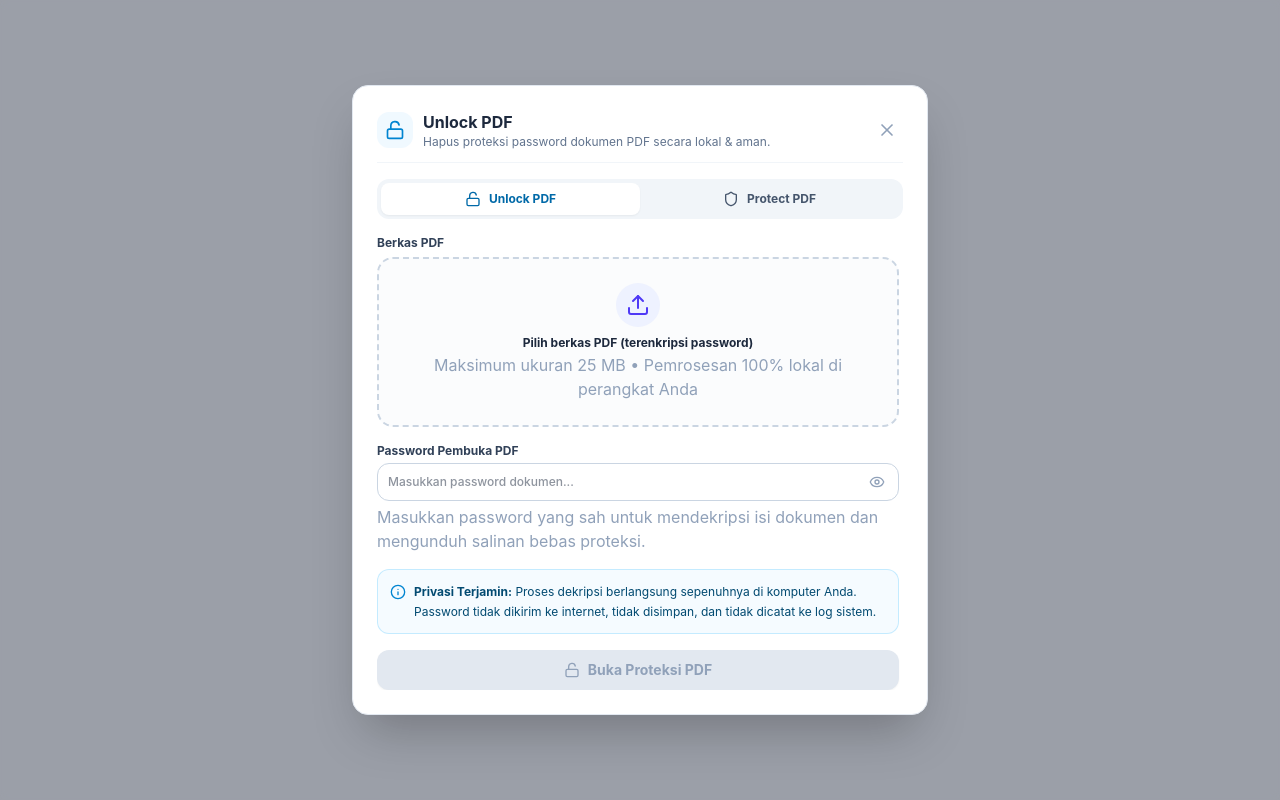
PdfSecurityModal Component › Modal Lifecycle & Tab Navigation › dapat berpindah tab dengan klik tombol tab
The image size is (1280, 800).
Click the tab with test id "tab-protect" at [770, 199], box [640, 183, 899, 215]
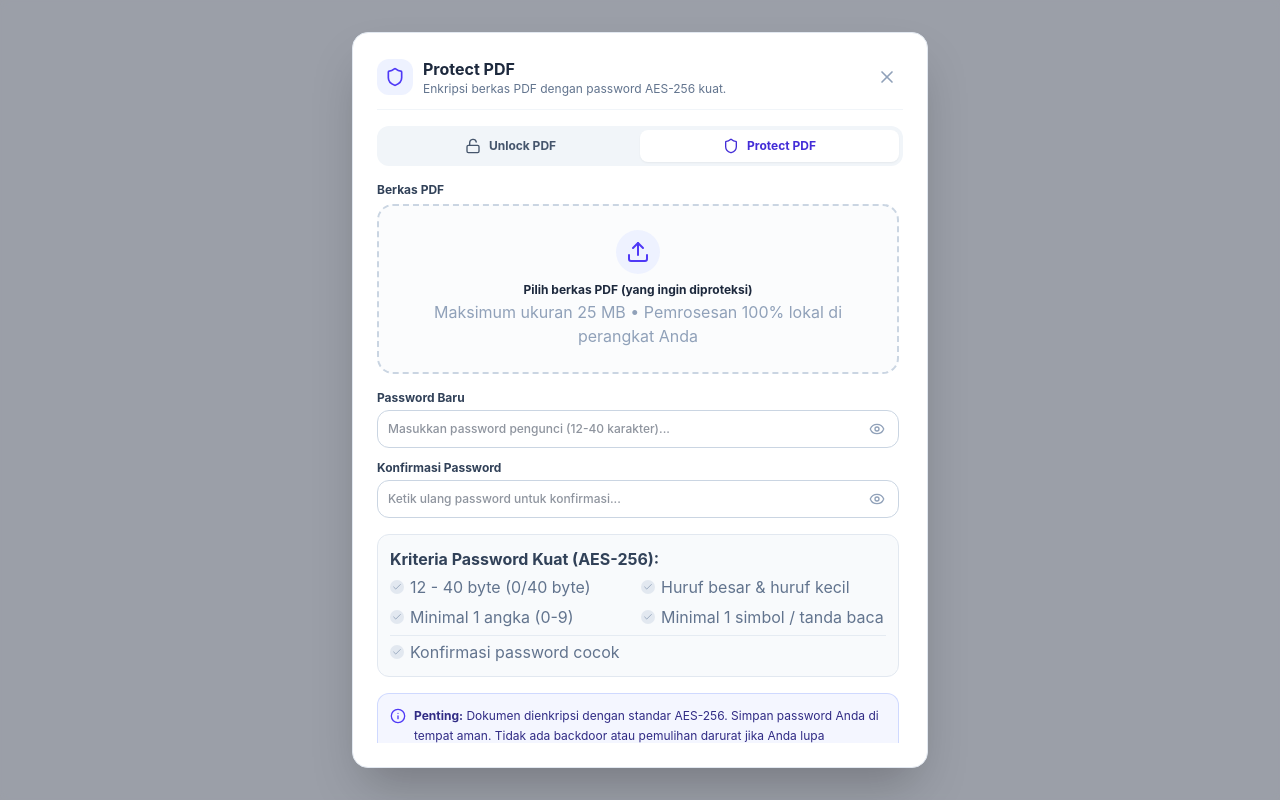
Expected: the form with test id "form-protect" is shown, [377, 390, 899, 743]
Click the tab with test id "tab-unlock" at [510, 146], box [381, 130, 640, 162]
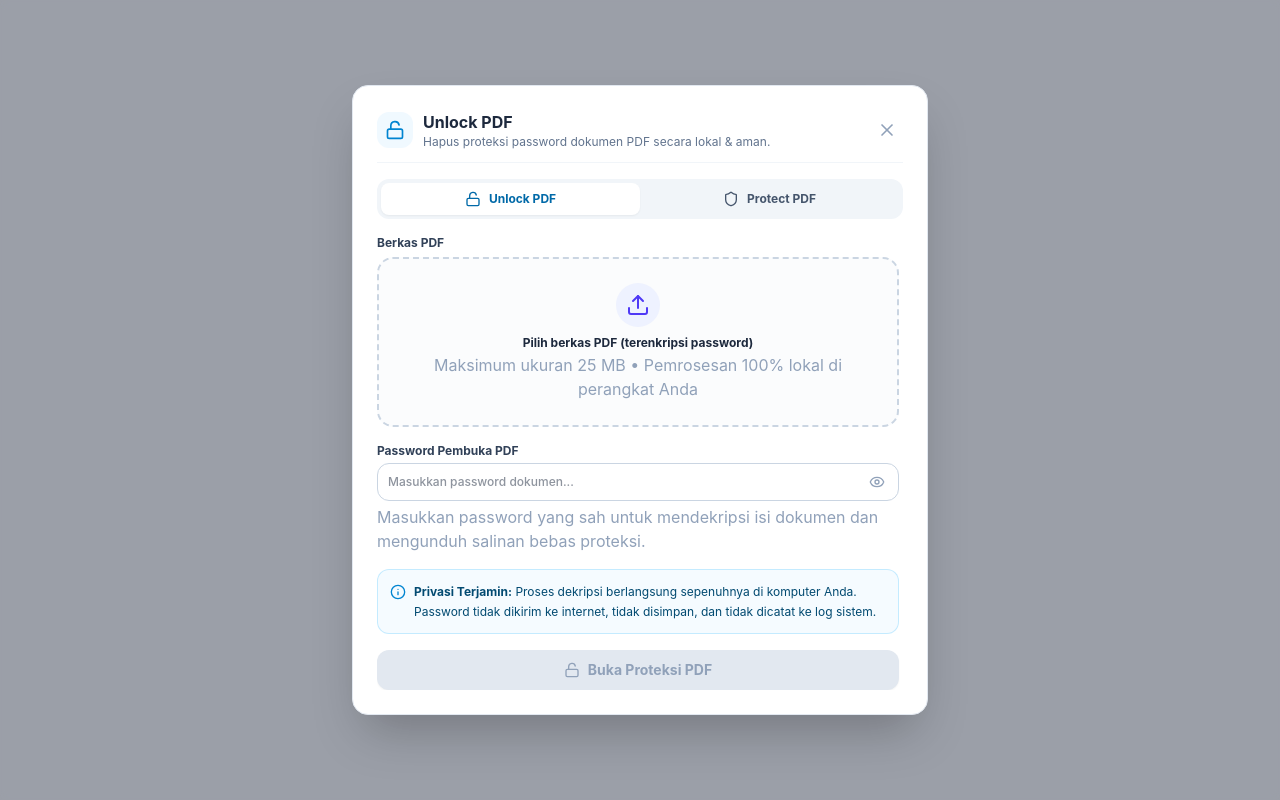
Expected: the form with test id "form-unlock" is shown, [377, 443, 899, 690]
